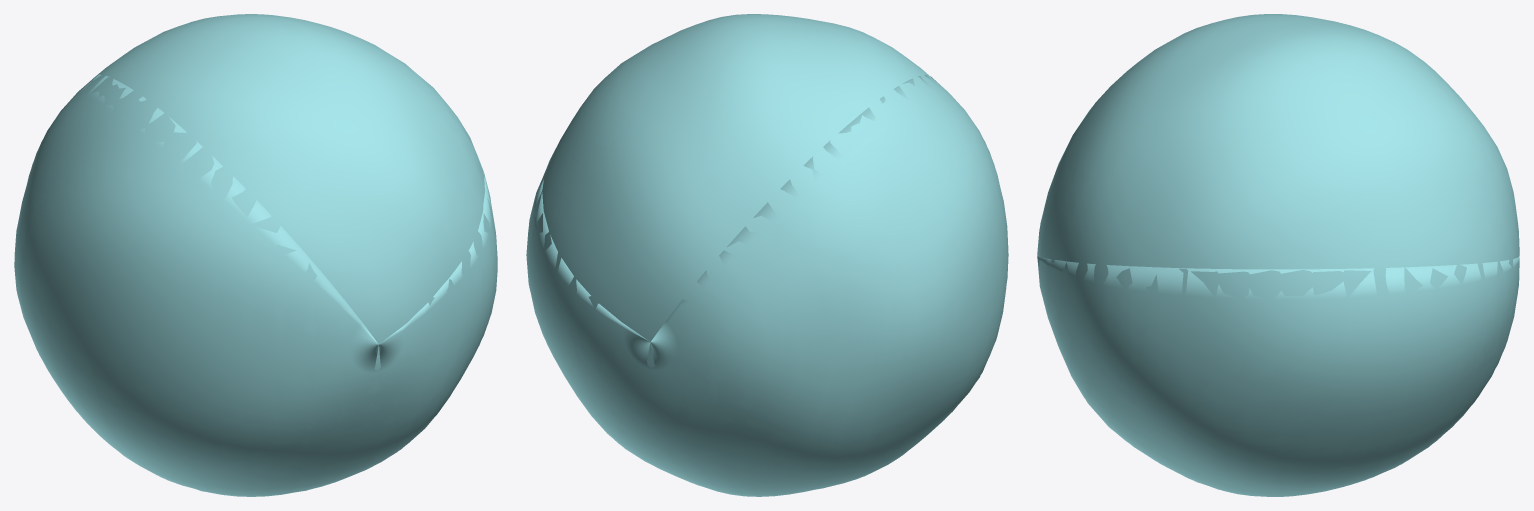
Rendered from nanocellulose_matrix.glb.
3 views of the same model, side by side, from view 1: azimuth 30°, elevation 25°; view 2: azimuth 150°, elevation 25°; view 3: azimuth 270°, elevation 25° (orthographic).
Parts seen in each view (by area): view 1: Hydrogel_Shell_Full, Hydrogel_Shell_Cutaway; view 2: Hydrogel_Shell_Full, Hydrogel_Shell_Cutaway; view 3: Hydrogel_Shell_Full, Hydrogel_Shell_Cutaway.
Boxes of the visible parts, bbox=[...] form: Hydrogel_Shell_Full: bbox=[14, 14, 497, 496]; Hydrogel_Shell_Cutaway: bbox=[14, 74, 497, 496]; Hydrogel_Shell_Full: bbox=[526, 14, 1007, 496]; Hydrogel_Shell_Cutaway: bbox=[526, 75, 1008, 495]; Hydrogel_Shell_Full: bbox=[1037, 14, 1519, 496]; Hydrogel_Shell_Cutaway: bbox=[1037, 107, 1519, 495].
Size of the model in its own units: 7.1 by 7.12 by 7.1.
